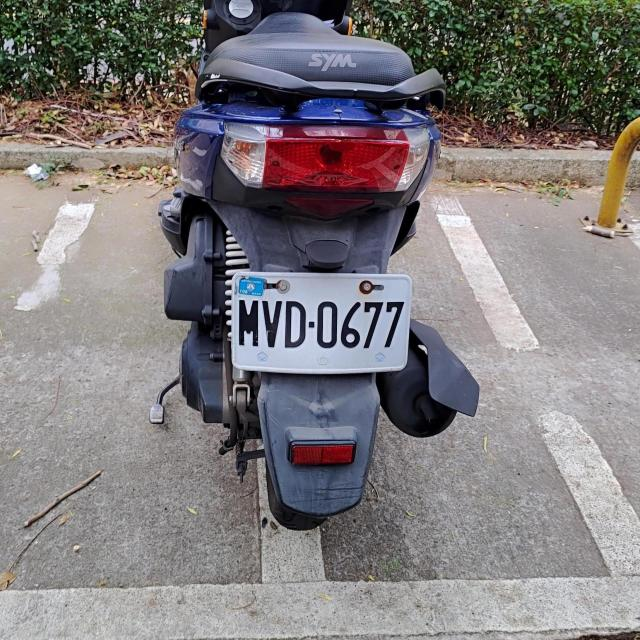W: (230, 270, 412, 373)
